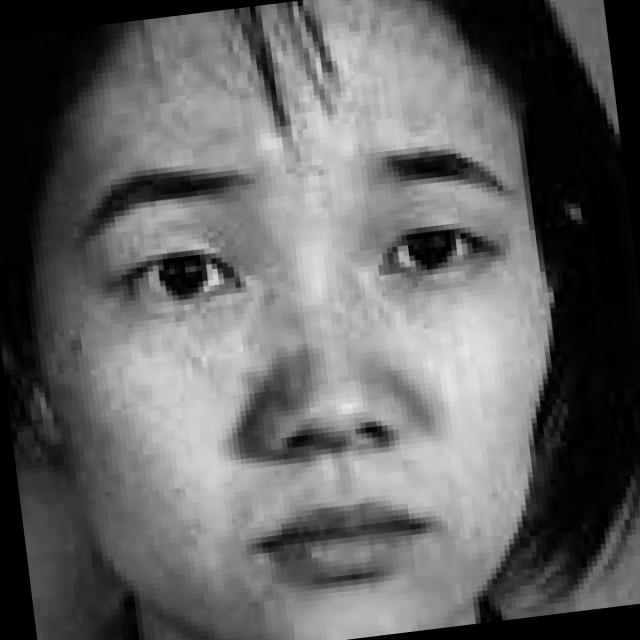fear: (18, 9, 629, 640)
